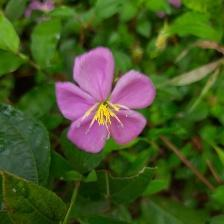malabar melastome: (53, 45, 160, 157)
